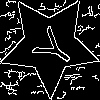Y: (24, 20, 79, 73)
